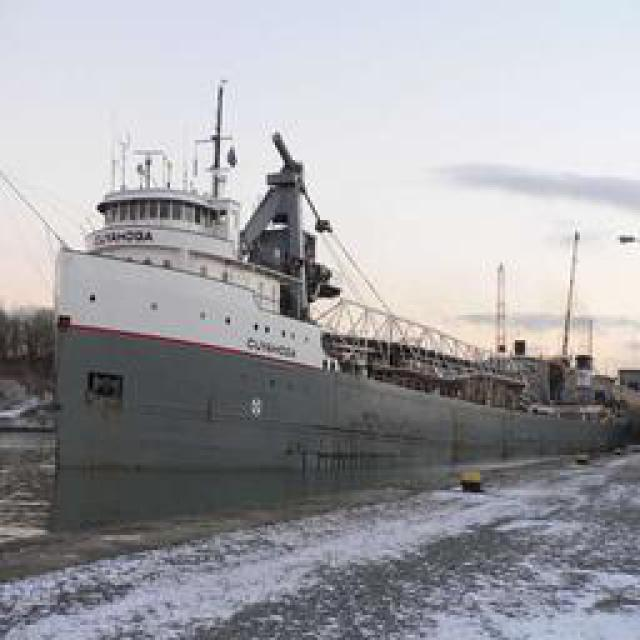Ship: (62, 90, 610, 500)
